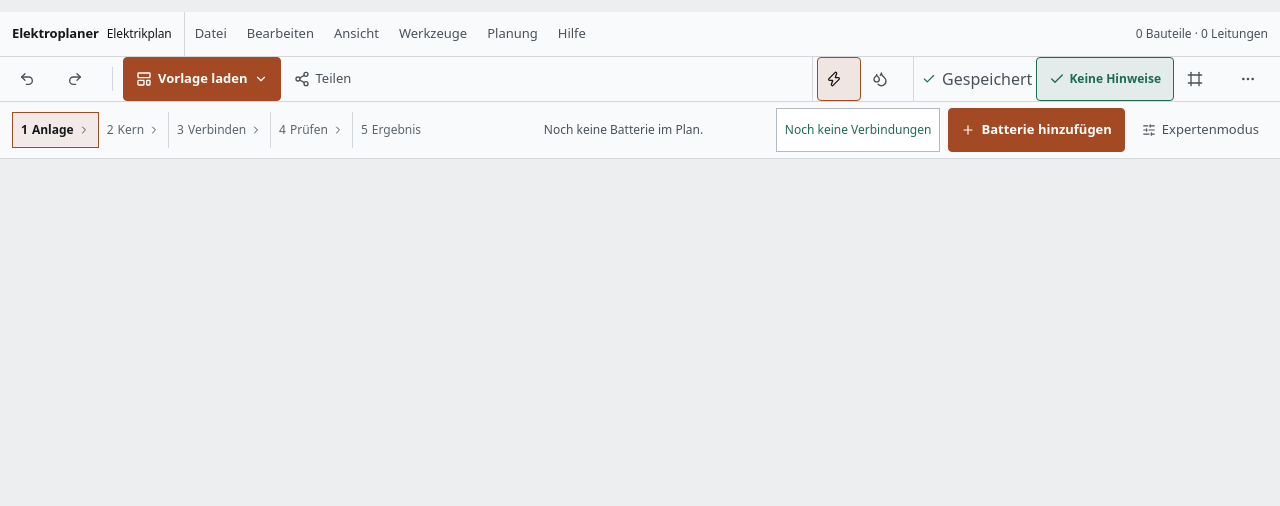
Test case: PlannerDashboard - Core Interactions › renders default UI elements correctly
Check: the button with test id "guided-primary-action" reads "Batterie hinzufügen", box x1=948 y1=108 x2=1125 y2=152
Click the button named "Weitere Aktionen": (1248, 79) x1=1226 y1=57 x2=1270 y2=101
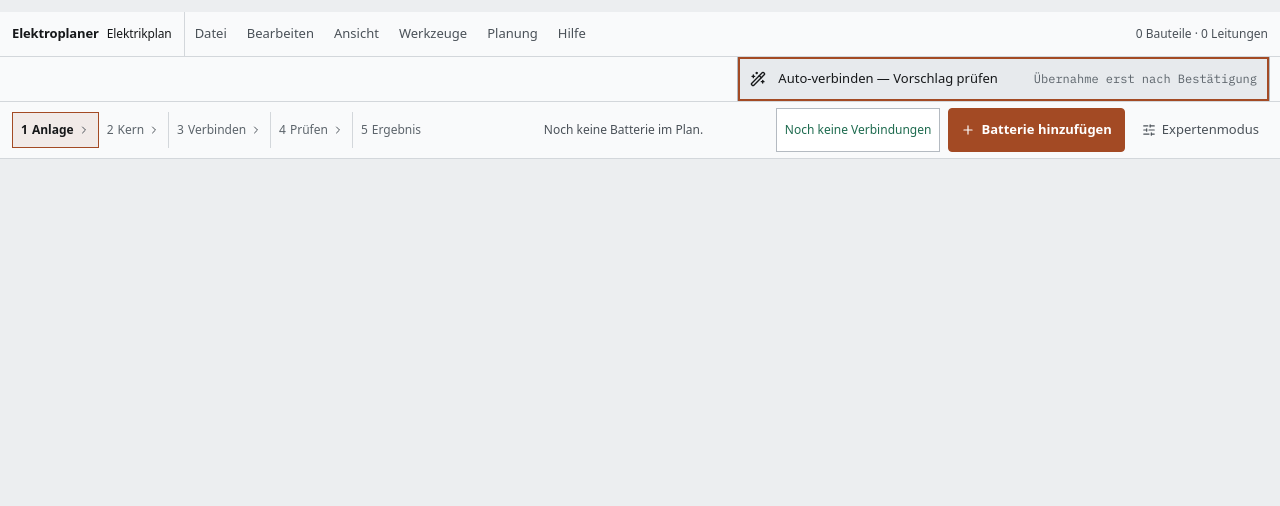
Check: the menu item "Auto-verbinden — Vorschlag prüfen" is shown, box x1=738 y1=57 x2=1269 y2=101
Click the menu item with test id "menubar-planung": (512, 34) x1=477 y1=12 x2=548 y2=56
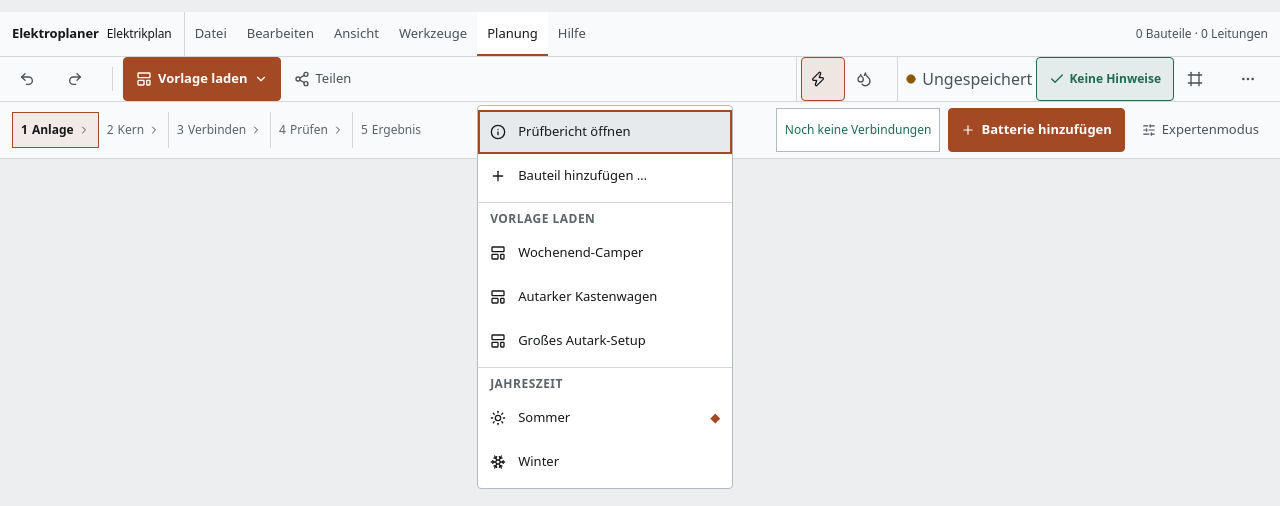
Check: the menu item "Sommer ◆" is shown, box x1=478 y1=396 x2=732 y2=440
Check: the menu item "Winter" is shown, box x1=478 y1=440 x2=732 y2=484
